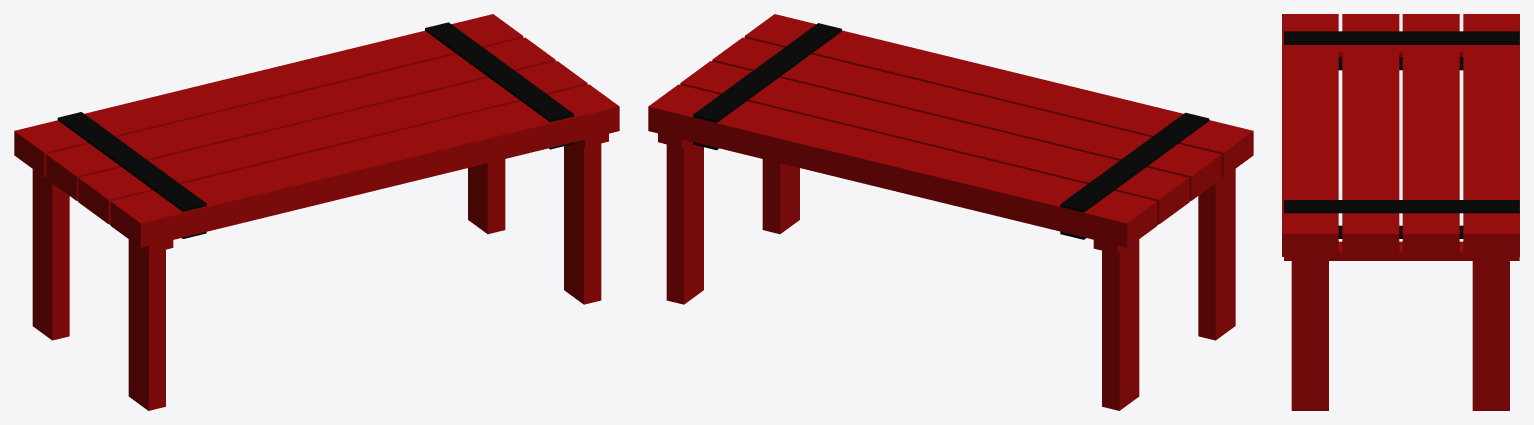
The model's file is Prop_Table_01.fbx.
3 renders of one model, left to right at view 1: azimuth 30°, elevation 25°; view 2: azimuth 150°, elevation 25°; view 3: azimuth 270°, elevation 25°, orthographic. The views are drawn at different scales.
Parts seen in each view (by area): view 1: Prop_Table_01; view 2: Prop_Table_01; view 3: Prop_Table_01.
Part boxes in pixels (x1,y1,x2,y2): Prop_Table_01: (14, 14, 619, 410); Prop_Table_01: (648, 14, 1253, 410); Prop_Table_01: (1282, 14, 1519, 410).
Size of the model in its own units: 202 by 79.29 by 92.12.
